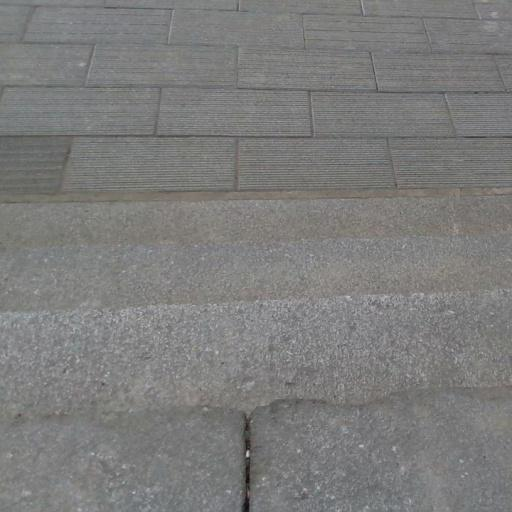stairs: (0, 197, 511, 511)
